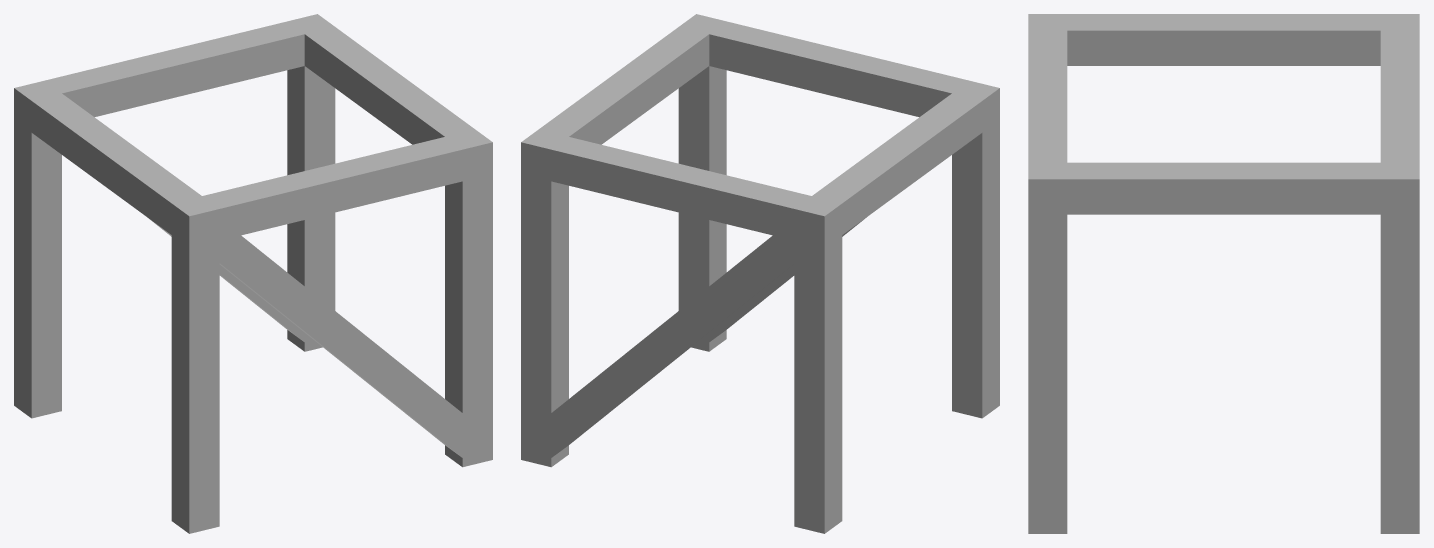
File: CubeTower1.fbx
3 views of the same model, side by side, from view 1: azimuth 30°, elevation 25°; view 2: azimuth 150°, elevation 25°; view 3: azimuth 270°, elevation 25° (orthographic). The views are drawn at different scales.
Parts seen in each view (by area): view 1: polySurface1; view 2: polySurface1; view 3: polySurface1.
Boxes of the visible parts, box(x1,y1,x2,y2) form: polySurface1: box(14, 14, 492, 533); polySurface1: box(521, 14, 999, 533); polySurface1: box(1028, 14, 1419, 533).
Size of the model in its own units: 1 by 1 by 1.
1 material, 1 textured.
